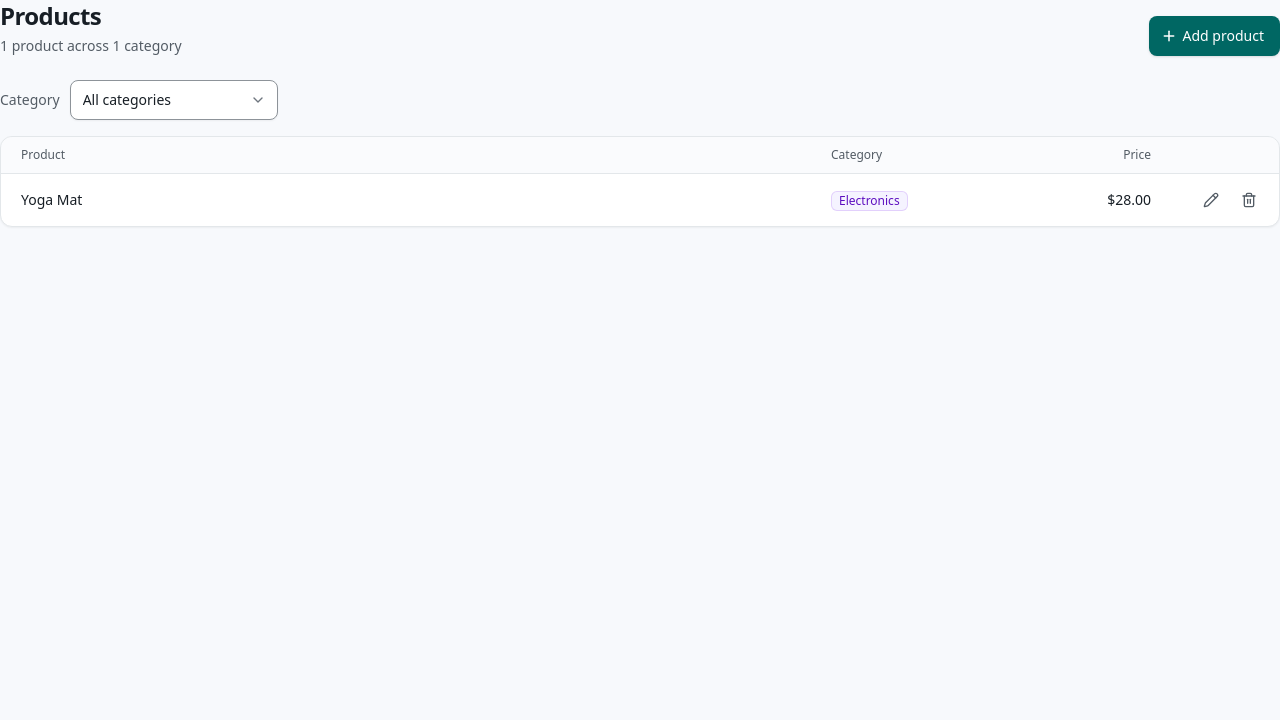
it: edit product › shows whole-dollar prices with cents, e.g. 28 as 28.00
The image size is (1280, 720).
What coordinates should you click on to do the following:
click the button named "Edit Yoga Mat"
I would click on:
 (1211, 200)
Its box is left=1193, top=182, right=1229, bottom=218.
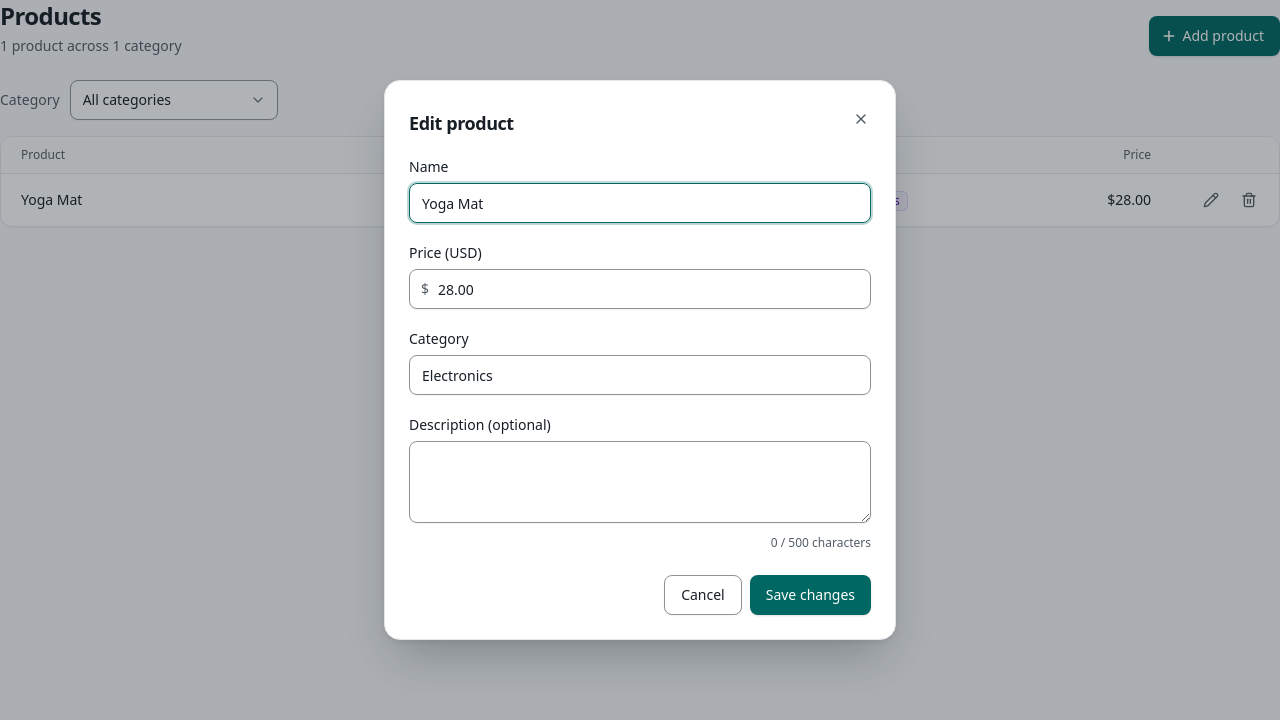
Now the field labelled "Price (USD)" holds "28.00", box left=409, top=269, right=871, bottom=309
